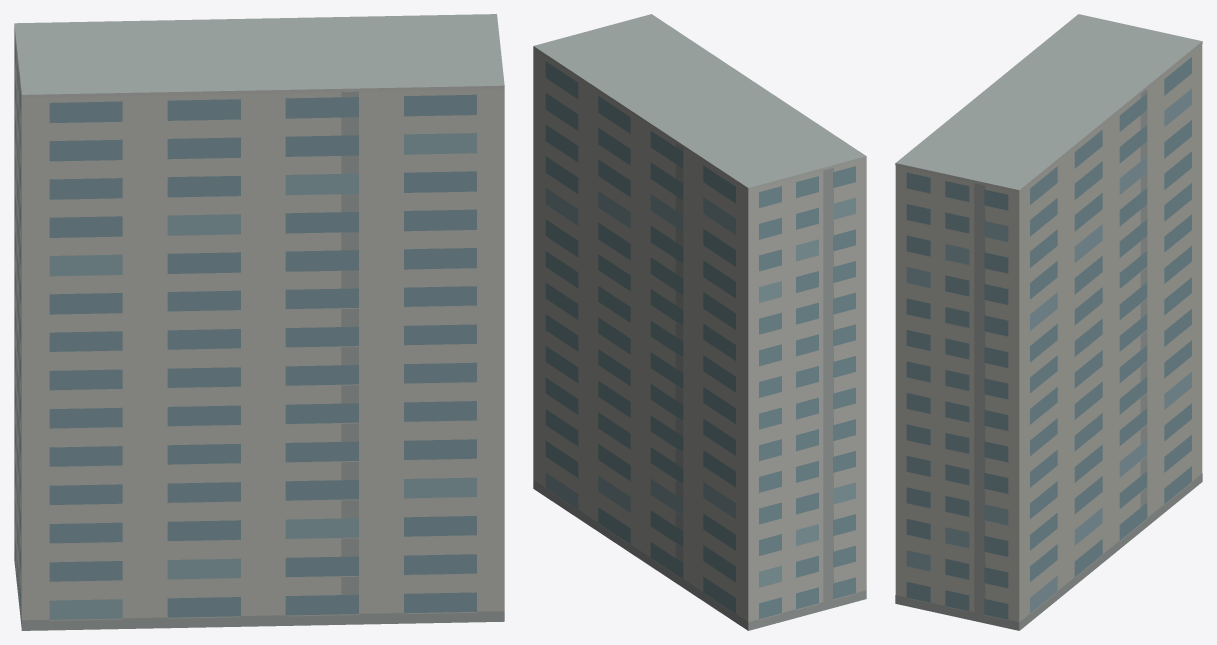
Rendered from residential-0bb1ac67-cac2-41f0-9ee0-874d7fe3c08e.glb.
3 views of the same model, side by side, from view 1: azimuth 30°, elevation 25°; view 2: azimuth 150°, elevation 25°; view 3: azimuth 270°, elevation 25° (orthographic). The views are drawn at different scales.
Parts seen in each view (by area): view 1: residential-0bb1ac67-cac2-41f0-9ee0-874d7fe3c08e.tmp; view 2: residential-0bb1ac67-cac2-41f0-9ee0-874d7fe3c08e.tmp; view 3: residential-0bb1ac67-cac2-41f0-9ee0-874d7fe3c08e.tmp.
Boxes of the visible parts, x1,y1,x2,y2 form: residential-0bb1ac67-cac2-41f0-9ee0-874d7fe3c08e.tmp: (14, 14, 504, 630); residential-0bb1ac67-cac2-41f0-9ee0-874d7fe3c08e.tmp: (533, 14, 866, 630); residential-0bb1ac67-cac2-41f0-9ee0-874d7fe3c08e.tmp: (895, 14, 1202, 630).
Bounding box in the file's own units: 34.31 × 40 × 25.26.
